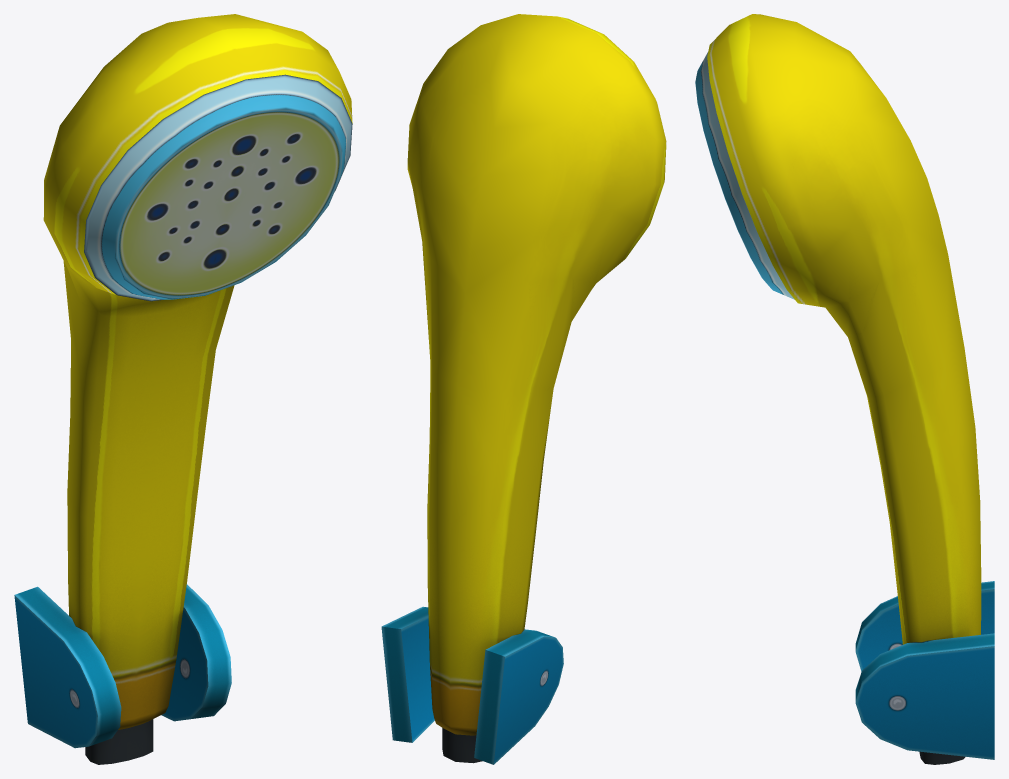
File: Shower.fbx
3 views of the same model, side by side, from view 1: azimuth 30°, elevation 25°; view 2: azimuth 150°, elevation 25°; view 3: azimuth 270°, elevation 25° (orthographic). The views are drawn at different scales.
Parts seen in each view (by area): view 1: 071; view 2: 071; view 3: 071.
Boxes of the visible parts, x1=… form: 071: x1=14, y1=14, x2=352, y2=764; 071: x1=381, y1=14, x2=666, y2=764; 071: x1=695, y1=14, x2=994, y2=764.
Size of the model in its own units: 22.79 by 59.65 by 22.34.
1 material, 1 textured.
